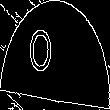O_S: (42, 27, 68, 83)
